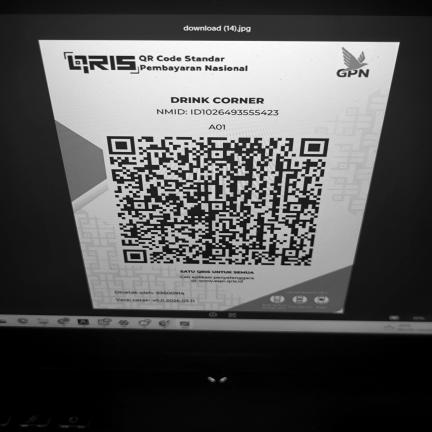Qris-Positioning: (39, 40, 399, 314)
